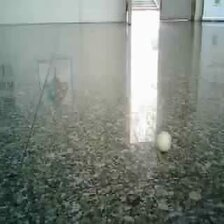w: (155, 130, 173, 153)
